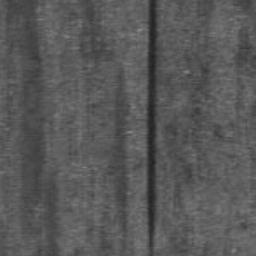Scratches: (147, 0, 157, 256)
